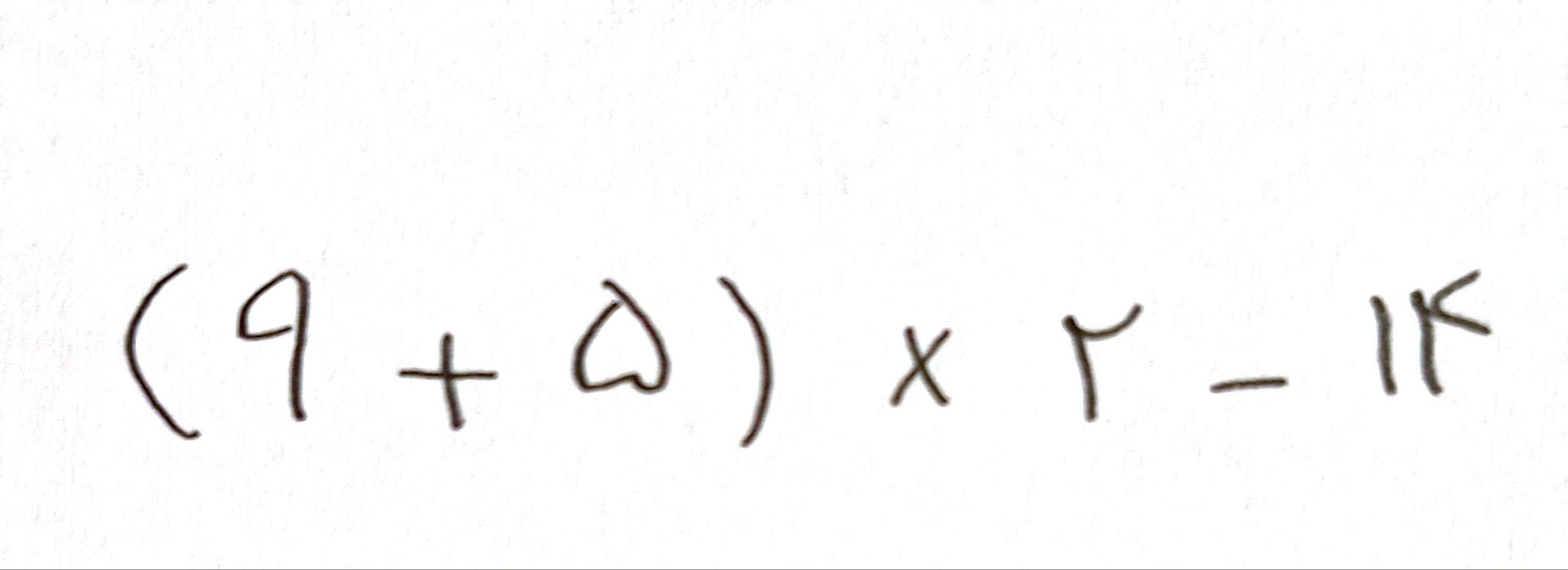character: (126, 264, 201, 439), (236, 270, 310, 423), (573, 279, 670, 393), (716, 276, 776, 447), (1410, 270, 1490, 396), (1063, 302, 1143, 423), (400, 333, 497, 429), (891, 325, 954, 406), (1370, 297, 1393, 397), (1210, 374, 1282, 392)
